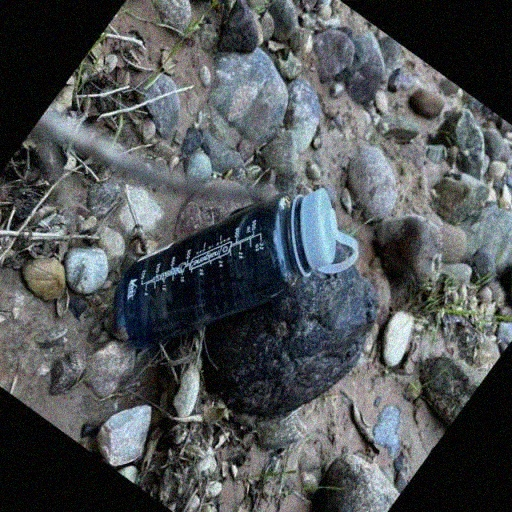bottle: (92, 122, 379, 423)
